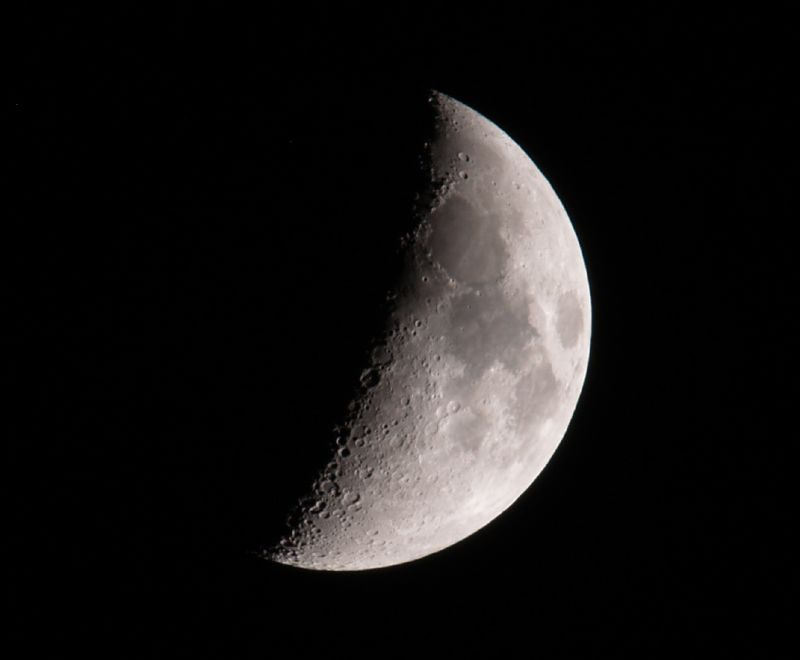crater: (424, 187, 523, 305), (544, 284, 587, 357), (351, 363, 390, 394), (448, 142, 483, 164), (450, 166, 482, 184), (445, 393, 465, 418), (477, 390, 498, 413)
